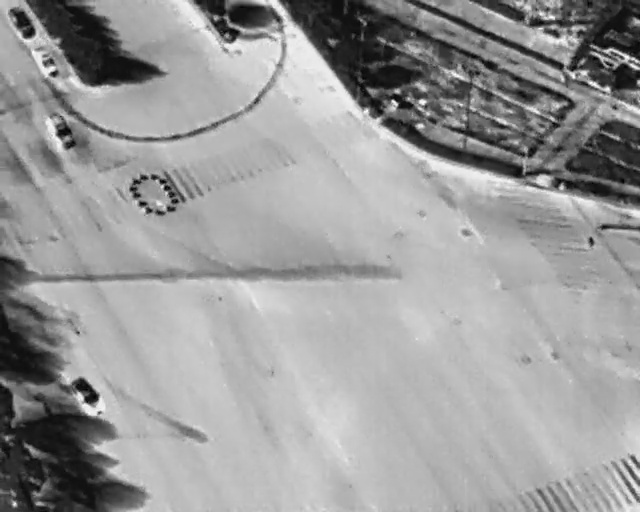Car: (40, 107, 81, 155), (6, 2, 38, 43), (31, 45, 61, 79)
